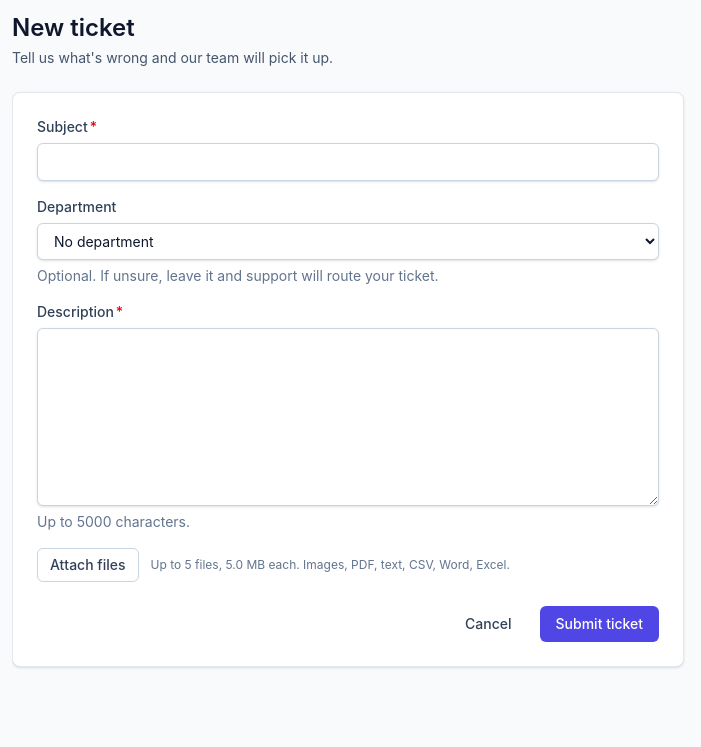
it: NewTicketPage › explains the rate limit
This screenshot has width=701, height=747.
Type "S" into the field labelled "Subject*".
click(348, 162); type("S")  # box [37,143,659,181]
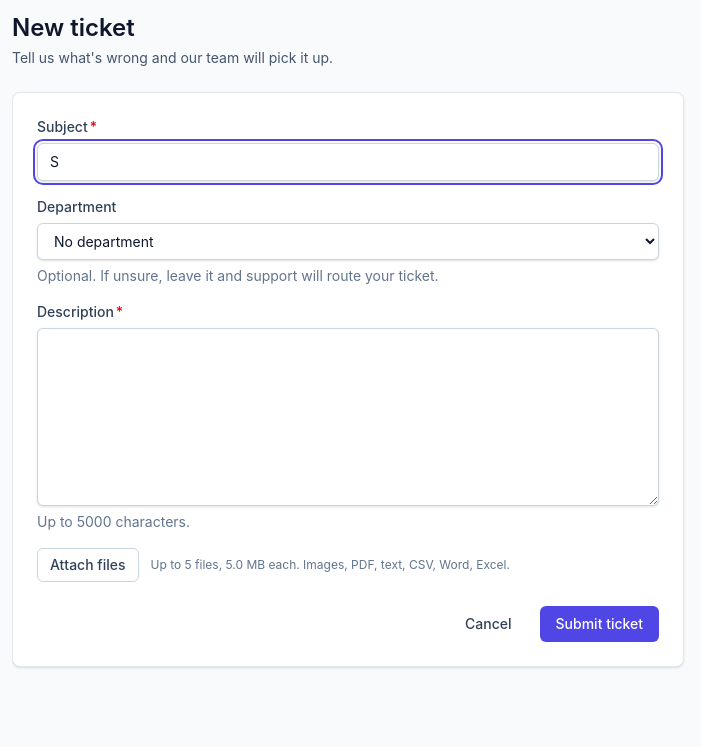
Type "D" into the text box labelled "Description*".
click(348, 417); type("D")  # box [37,328,659,506]
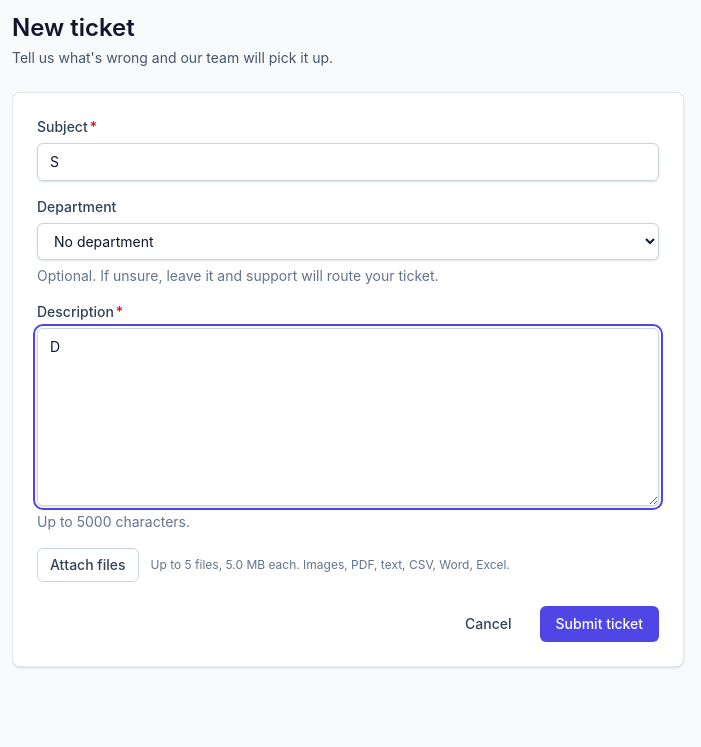
Click the button "Submit ticket".
click(599, 624)  # box [540,606,659,642]
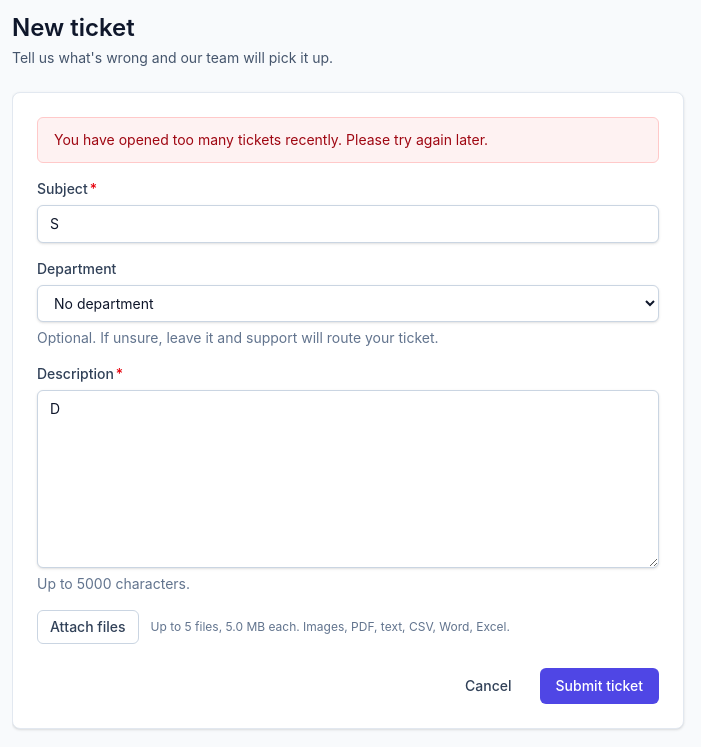
Now the text "too many tickets recently" is shown, box [54,131,488,148]
